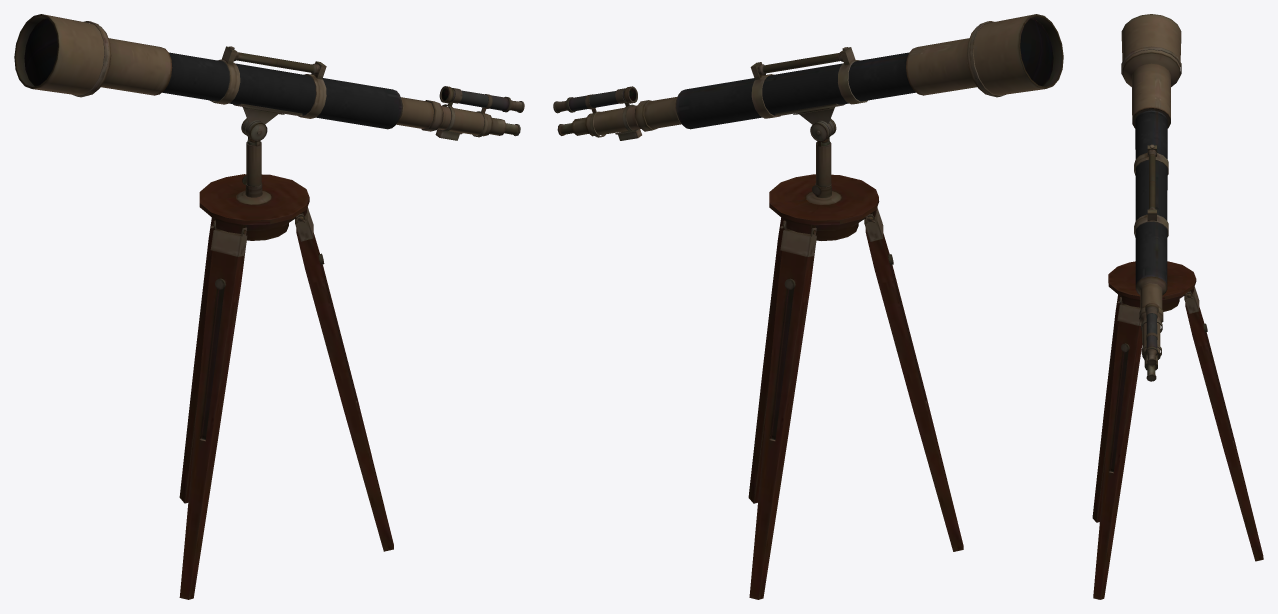
Rendered from obj_telescope.glb.
3 views of the same model, side by side, from view 1: azimuth 30°, elevation 25°; view 2: azimuth 150°, elevation 25°; view 3: azimuth 270°, elevation 25° (orthographic). The views are drawn at different scales.
Parts seen in each view (by area): view 1: Object_2; view 2: Object_2; view 3: Object_2.
Boxes of the visible parts, bbox=[...] form: Object_2: bbox=[14, 14, 524, 599]; Object_2: bbox=[553, 14, 1063, 599]; Object_2: bbox=[1092, 14, 1263, 599].
Bounding box in the file's own units: 1.34 × 1.5 × 0.4991.
1 material, 1 textured.
